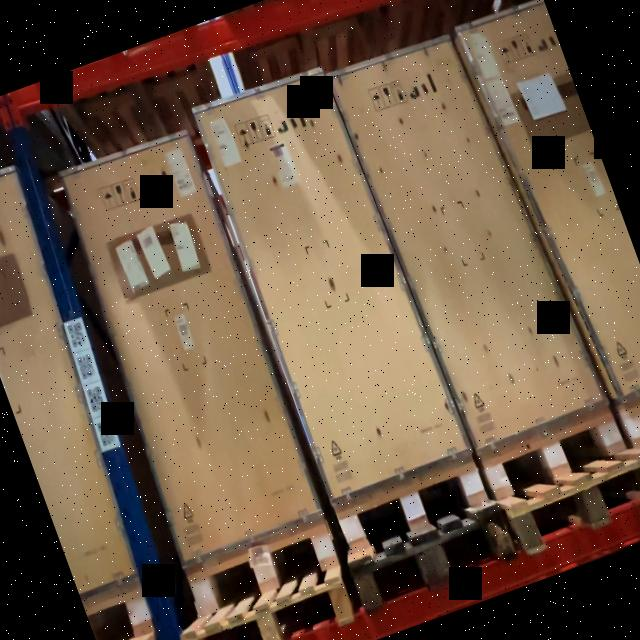box: (194, 64, 464, 504), (62, 130, 324, 561), (340, 35, 586, 453)
